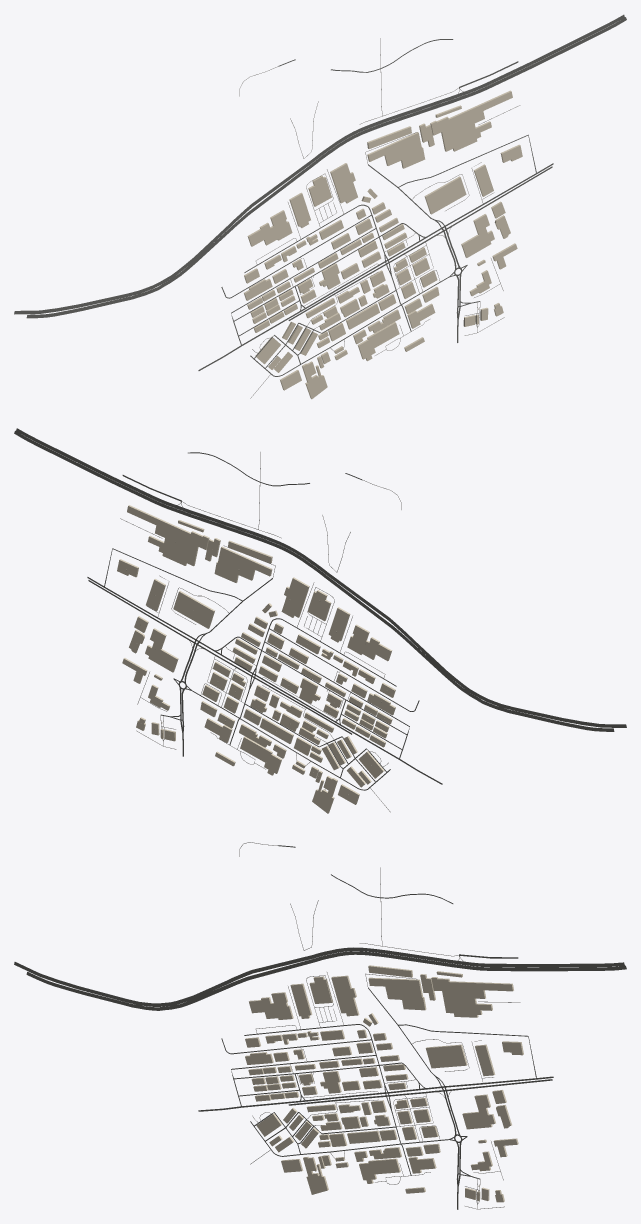
File: historic-palestine-11_35_3531_3292.glb
3 renders of one model, top to bottom at view 1: azimuth 30°, elevation 25°; view 2: azimuth 150°, elevation 25°; view 3: azimuth 330°, elevation 25°, orthographic.
Parts seen in each view (by area): view 1: Road 85, Road 85.001, Building_.076, Building_.074, Building_.084, Building_.079, Building_.082, Building_.095, Building_.013, Building_.046; view 2: Road 85, Road 85.001, Building_.076, Building_.074, Building_.084, Building_.079, Building_.082, Building_.095, Building_.013, Building_.046; view 3: Road 85, Road 85.001, Building_.076, Building_.074, Building_.084, Building_.079, Building_.082, Building_.095, Building_.013, Building_.046.
Boxes of the visible parts, bbox=[...] form: Road 85: bbox=[14, 14, 624, 314]; Road 85.001: bbox=[26, 17, 626, 318]; Building_.076: bbox=[430, 90, 512, 151]; Building_.074: bbox=[367, 132, 425, 168]; Building_.084: bbox=[247, 210, 292, 246]; Building_.079: bbox=[424, 176, 466, 214]; Building_.082: bbox=[330, 163, 357, 203]; Building_.095: bbox=[461, 214, 494, 257]; Building_.013: bbox=[357, 322, 399, 361]; Building_.046: bbox=[302, 361, 327, 399]; Road 85: bbox=[16, 428, 626, 727]; Road 85.001: bbox=[14, 430, 614, 731]; Building_.076: bbox=[127, 505, 209, 566]; Building_.074: bbox=[214, 546, 272, 582]; Building_.084: bbox=[347, 624, 392, 661]; Building_.079: bbox=[173, 591, 214, 628]; Building_.082: bbox=[281, 577, 309, 617]; Building_.095: bbox=[145, 628, 178, 672]; Building_.013: bbox=[240, 736, 281, 775]; Building_.046: bbox=[312, 776, 337, 813]; Road 85: bbox=[14, 947, 624, 1006]; Road 85.001: bbox=[26, 951, 626, 1010]; Building_.076: bbox=[431, 977, 513, 1017]; Building_.074: bbox=[368, 977, 426, 1010]; Building_.084: bbox=[249, 992, 293, 1019]; Building_.079: bbox=[425, 1044, 467, 1068]; Building_.082: bbox=[331, 975, 359, 1016]; Building_.095: bbox=[462, 1094, 495, 1129]; Building_.013: bbox=[359, 1158, 400, 1183]; Building_.046: bbox=[303, 1156, 328, 1194].
Size of the model in its own units: 2216 by 1190 by 8.7.
